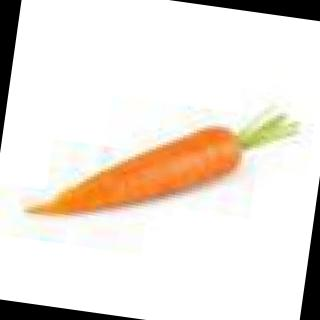Wortel: (8, 65, 308, 275)
